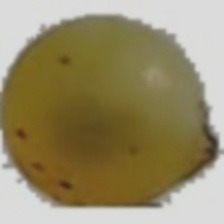grapes: (20, 2, 192, 203)
